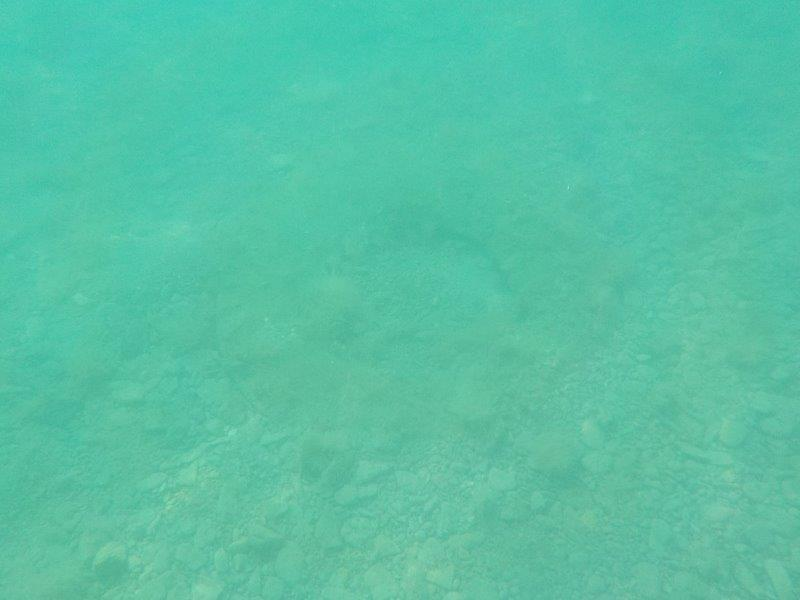tire: (202, 138, 632, 471)
